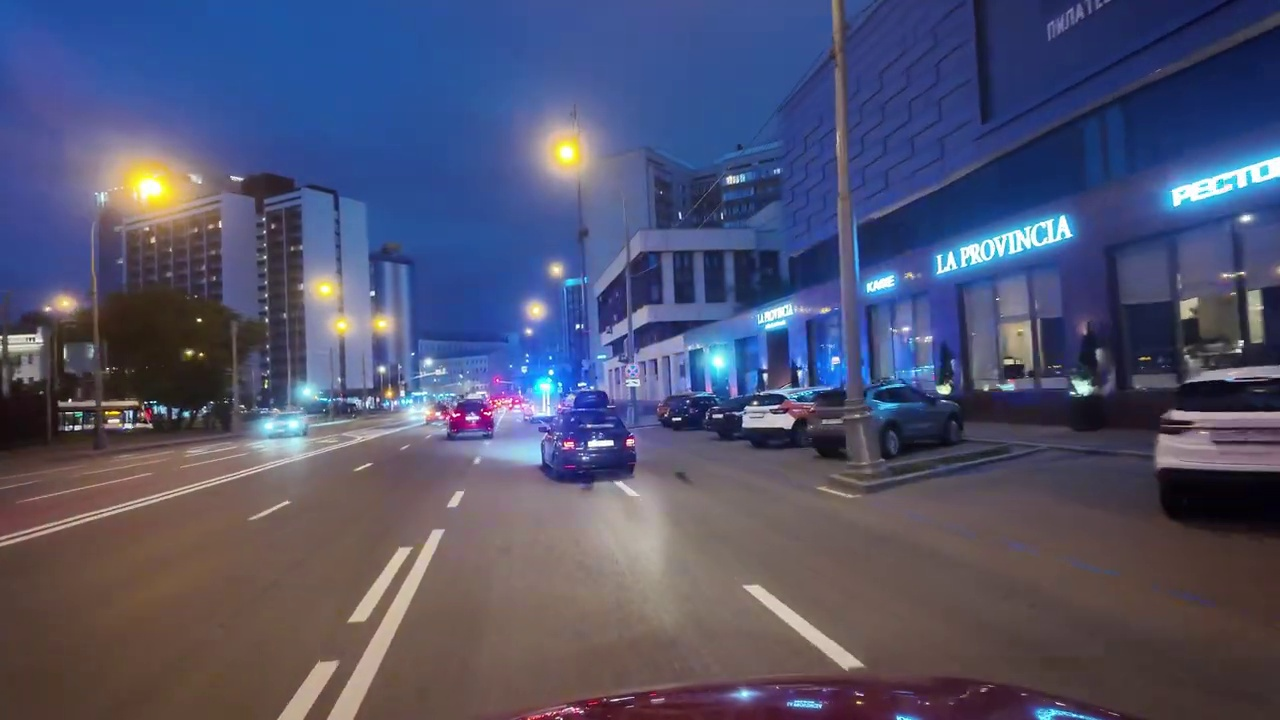acesa: (127, 166, 177, 212), (548, 134, 584, 170), (310, 276, 339, 301), (51, 295, 78, 316), (370, 313, 394, 336), (525, 299, 548, 322), (330, 315, 352, 337), (546, 260, 566, 280)
